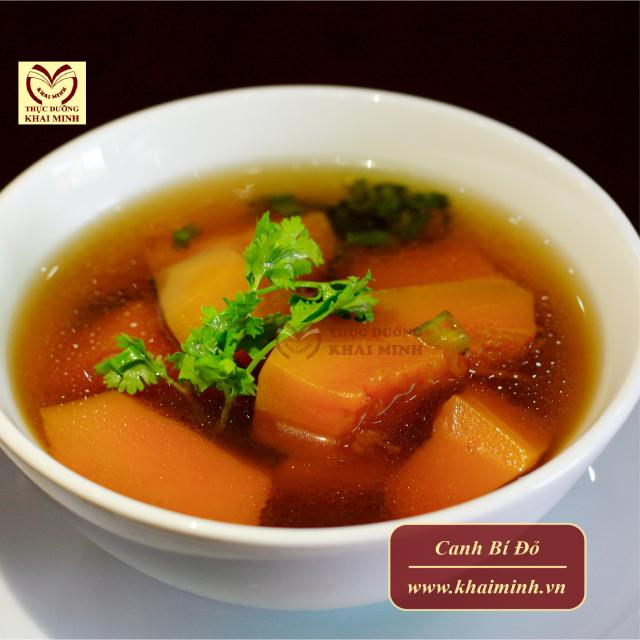canh bi do: (12, 174, 596, 528)
